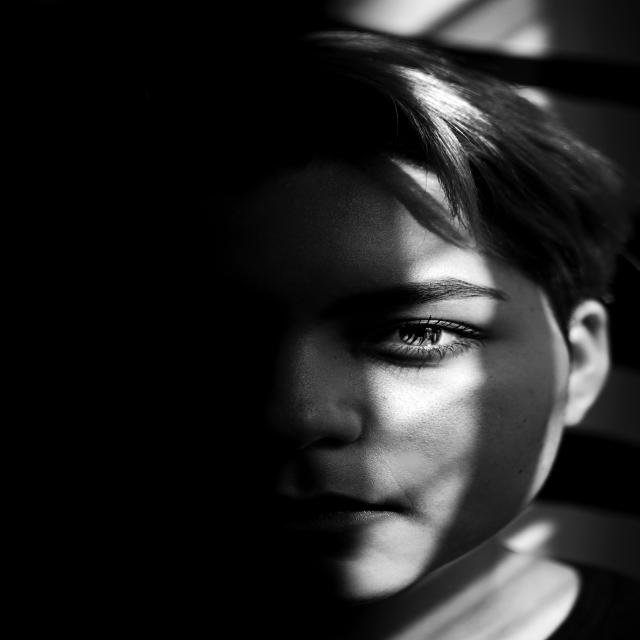adult: (270, 34, 612, 640)
